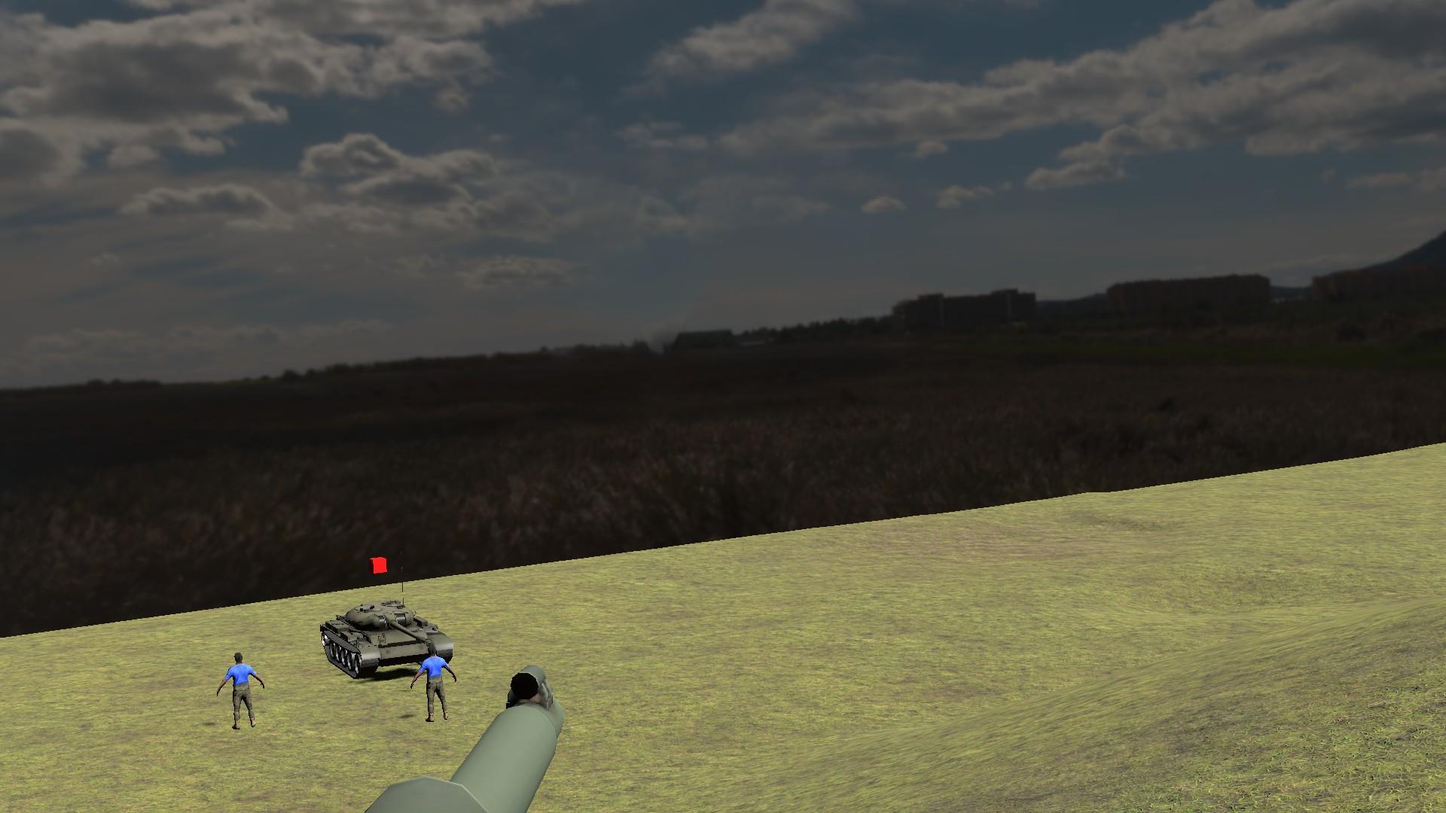Human: (408, 639, 462, 728), (214, 648, 269, 735)
Tank: (317, 595, 458, 683)
